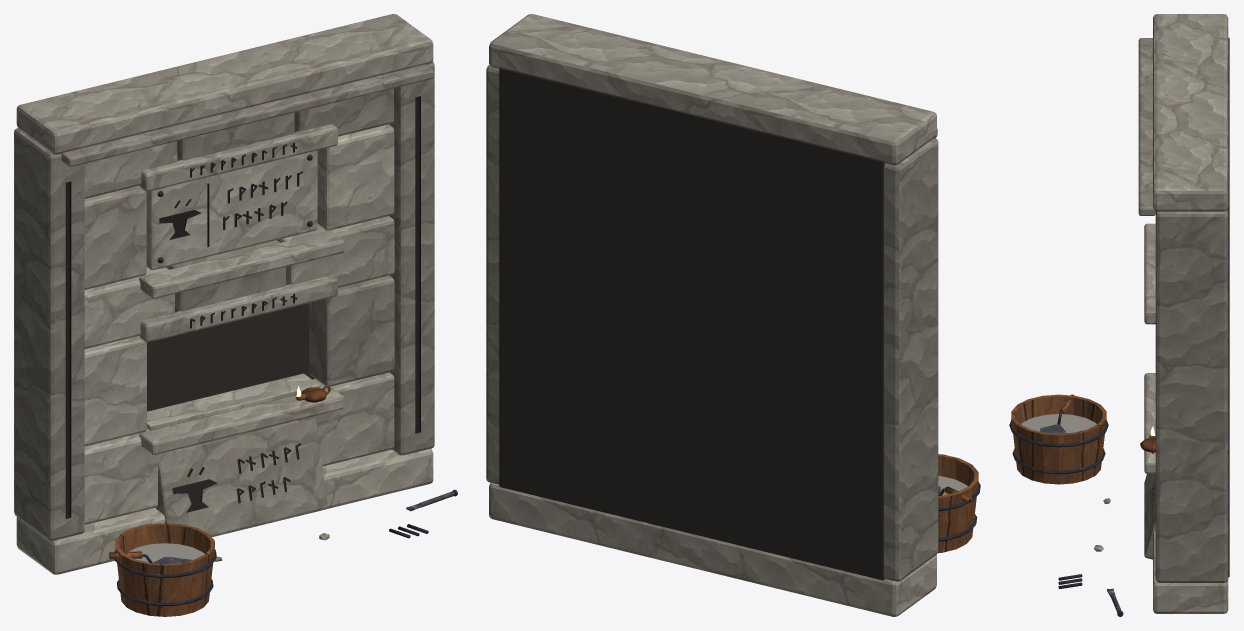
Rendered from qb_loculus_open.glb.
3 views of the same model, side by side, from view 1: azimuth 30°, elevation 25°; view 2: azimuth 150°, elevation 25°; view 3: azimuth 270°, elevation 25° (orthographic). The views are drawn at different scales.
Parts seen in each view (by area): view 1: model; view 2: model; view 3: model.
Boxes of the visible parts, bbox=[...] form: model: bbox=[14, 14, 457, 616]; model: bbox=[486, 14, 980, 616]; model: bbox=[1009, 14, 1229, 616].
Bounding box in the file's own units: 1.51 × 1.65 × 0.7749.
Materials: 11 (7 with a texture image).
